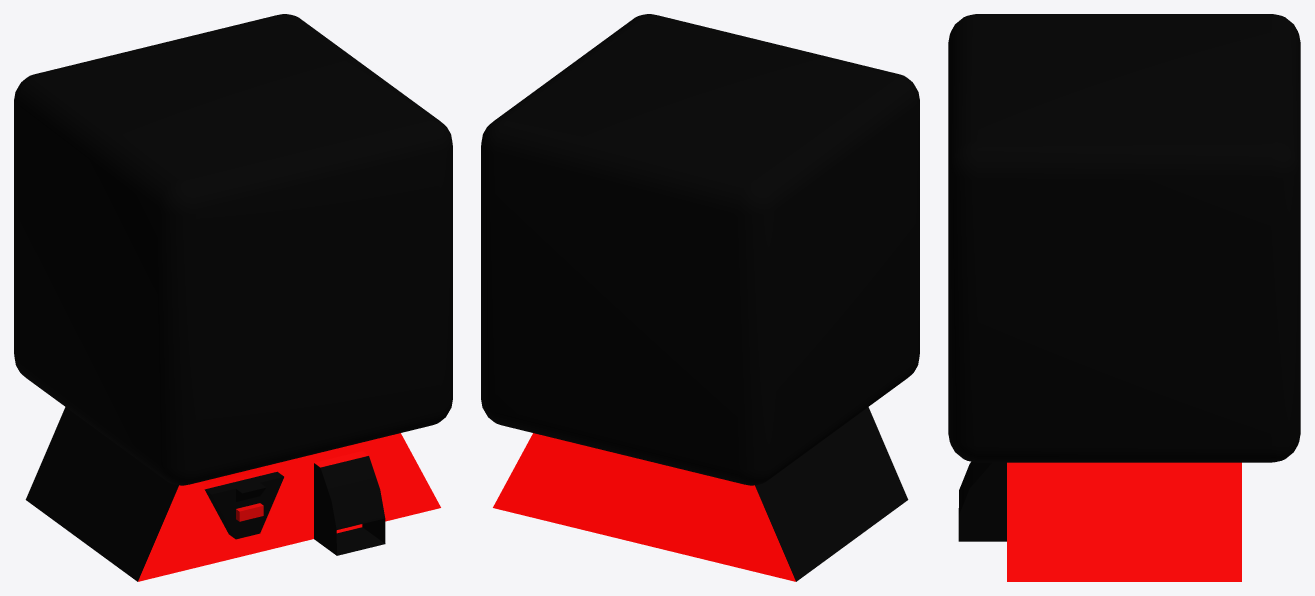
File: Gacha.FBX
The picture shows the model from 3 angles, left to right: view 1: azimuth 30°, elevation 25°; view 2: azimuth 150°, elevation 25°; view 3: azimuth 270°, elevation 25°; orthographic projection. The views are drawn at different scales.
Parts seen in each view (by area): view 1: ChamferBox001, Box001; view 2: Box001, ChamferBox001; view 3: Box001, ChamferBox001.
Part boxes in pixels (x1,y1,x2,y2): ChamferBox001: [14, 88, 452, 485]; Box001: [15, 14, 452, 581]; Box001: [481, 14, 914, 581]; ChamferBox001: [490, 85, 919, 485]; Box001: [949, 14, 1300, 581]; ChamferBox001: [948, 25, 1289, 462].
Size of the model in its own units: 125 by 160 by 120.
